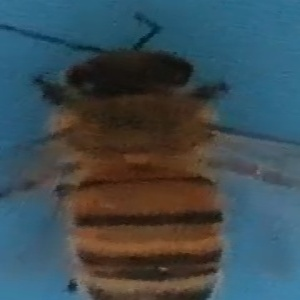bee: (3, 11, 282, 300)
